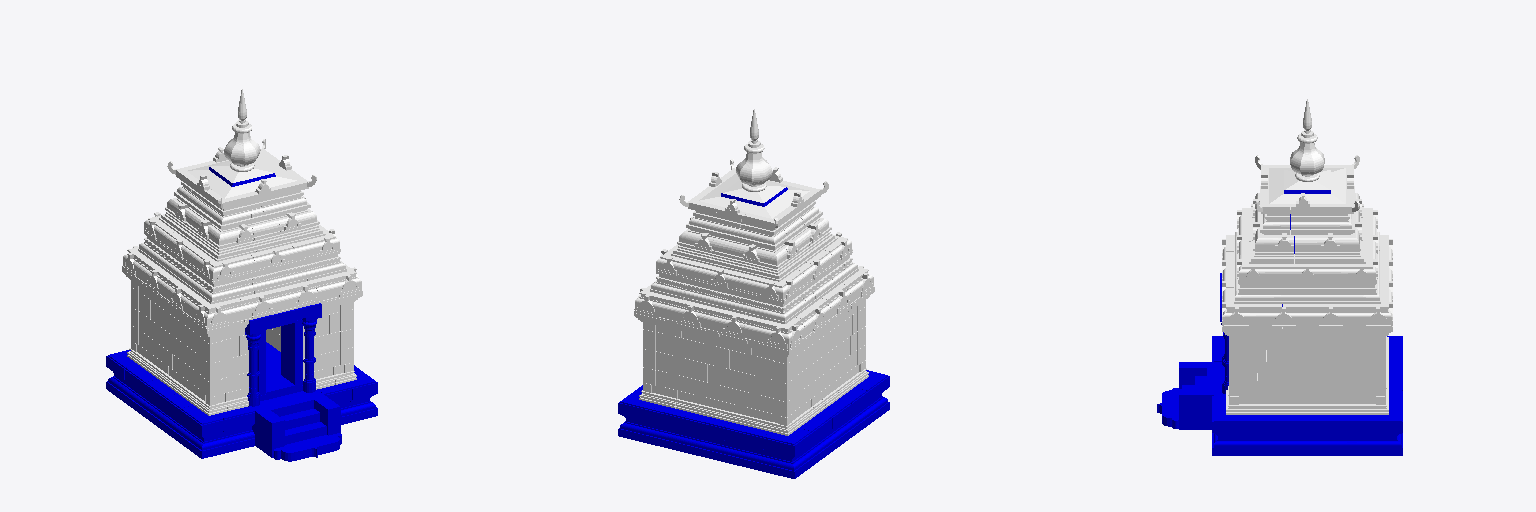
Rendered from temple.obj.
3 views of the same model, side by side, from view 1: azimuth 30°, elevation 25°; view 2: azimuth 150°, elevation 25°; view 3: azimuth 270°, elevation 25° (orthographic).
Parts seen in each view (by area): view 1: 4-SuperStructure, 1-Base, 2-Main, 3-Entry; view 2: 4-SuperStructure, 2-Main, 1-Base; view 3: 4-SuperStructure, 2-Main, 1-Base.
Part boxes in pixels (x1,y1,x2,y2): 4-SuperStructure: (122, 89, 362, 330); 1-Base: (106, 342, 377, 461); 2-Main: (122, 269, 362, 415); 3-Entry: (245, 303, 321, 406); 4-SuperStructure: (634, 109, 874, 350); 2-Main: (634, 289, 874, 435); 1-Base: (618, 370, 889, 478); 4-SuperStructure: (1222, 99, 1392, 328); 2-Main: (1222, 327, 1392, 414); 1-Base: (1157, 336, 1402, 455).
Bounding box in the file's own units: 4.8 × 8.16 × 5.8.